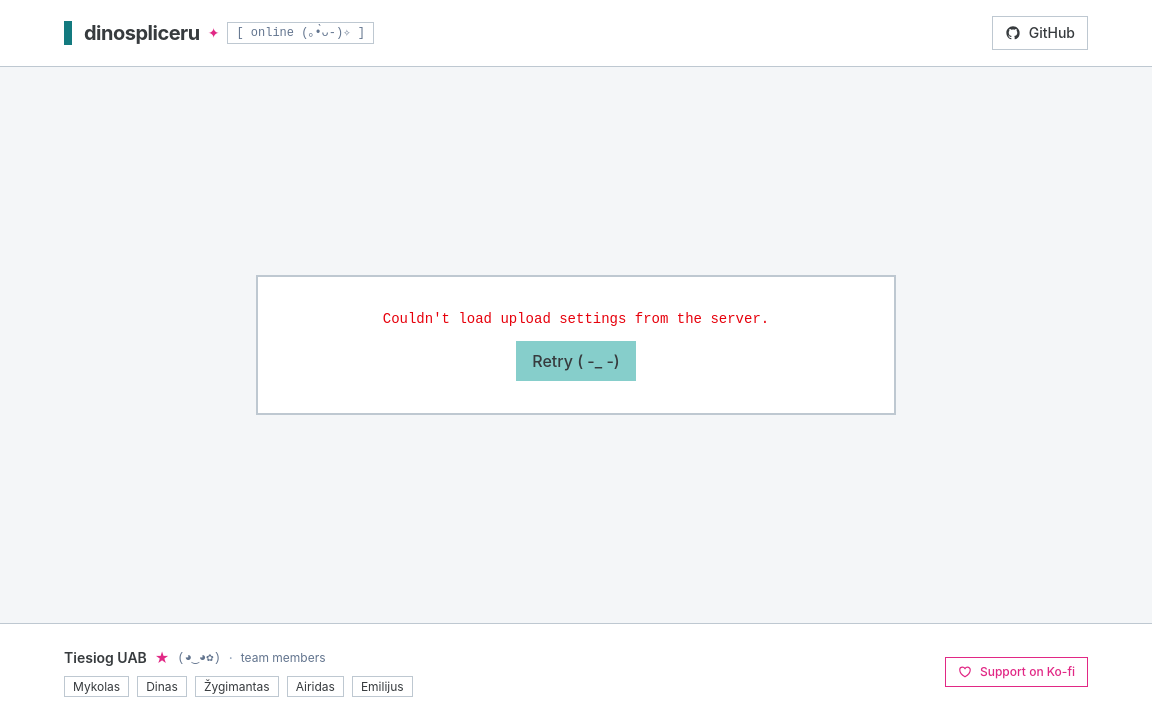
Test: App › shows an error with a retry button when the config fails to load, and recovers on retry
Expected: the message shows "Couldn't load upload settings", [383, 311, 769, 327]
Step 1. Click the button "Retry ( -_ -)" → (576, 361), box [516, 341, 636, 381]
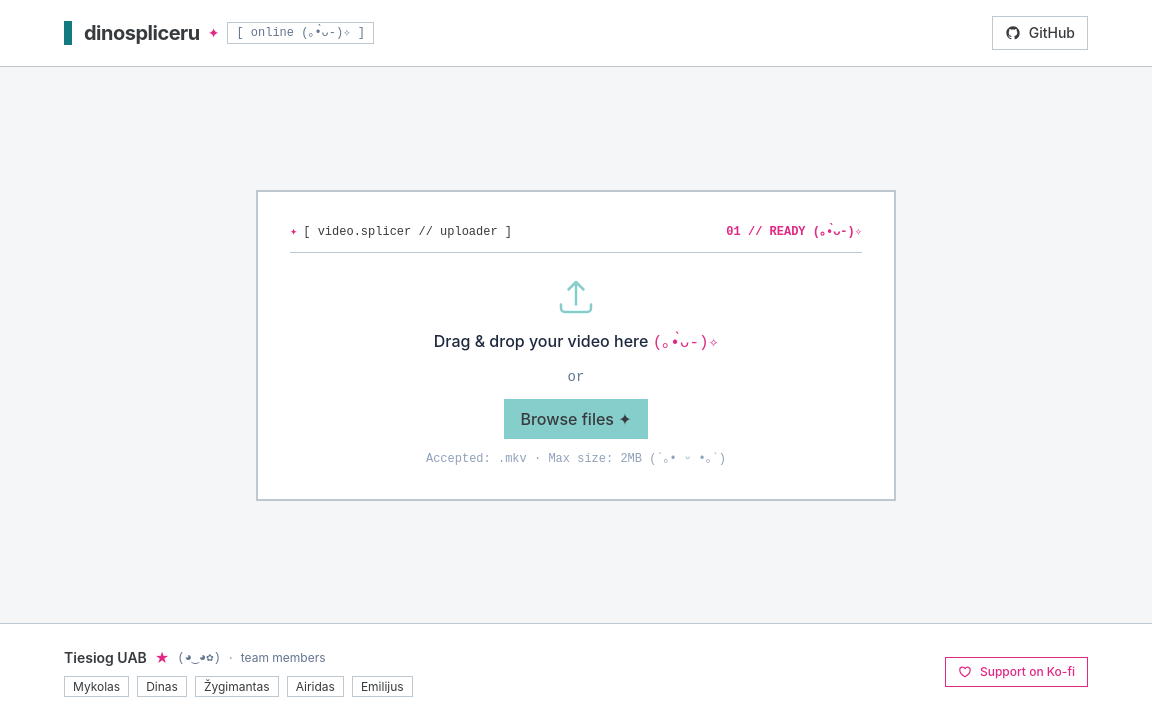
Expected: the element named "video uploader" is shown, [256, 190, 896, 500]
